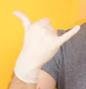clockwise: (13, 10, 81, 58)
